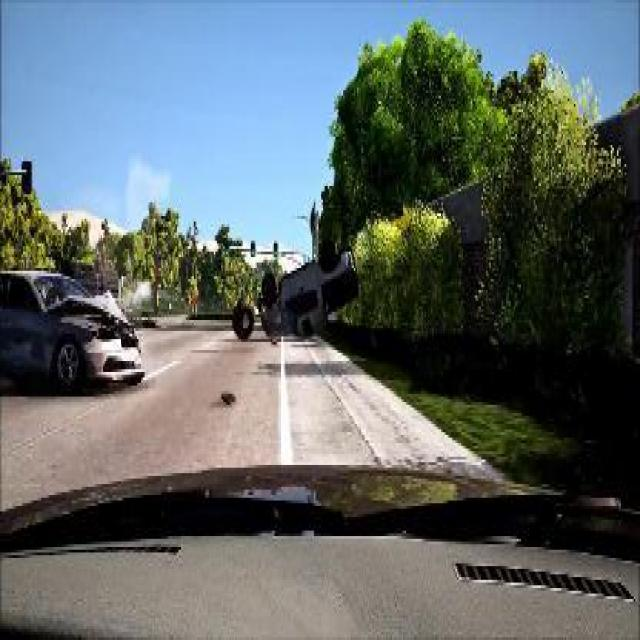accident: (248, 227, 362, 339)
